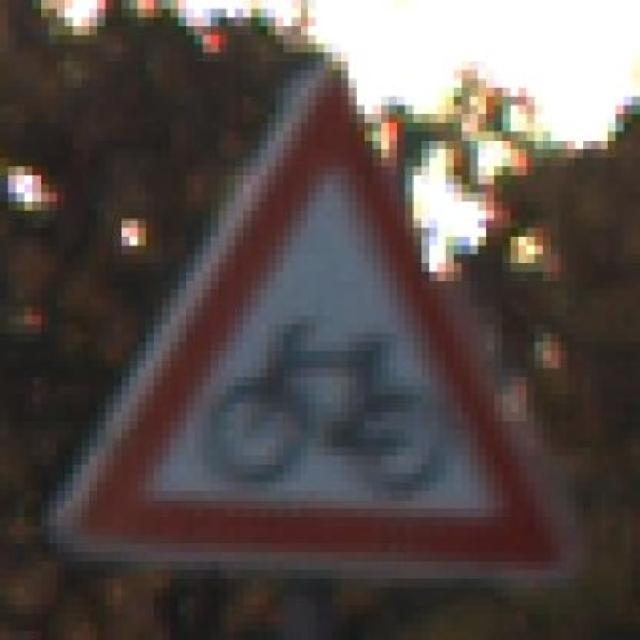CYCLE ROUTE AHEAD WARNING: (65, 26, 568, 588)
